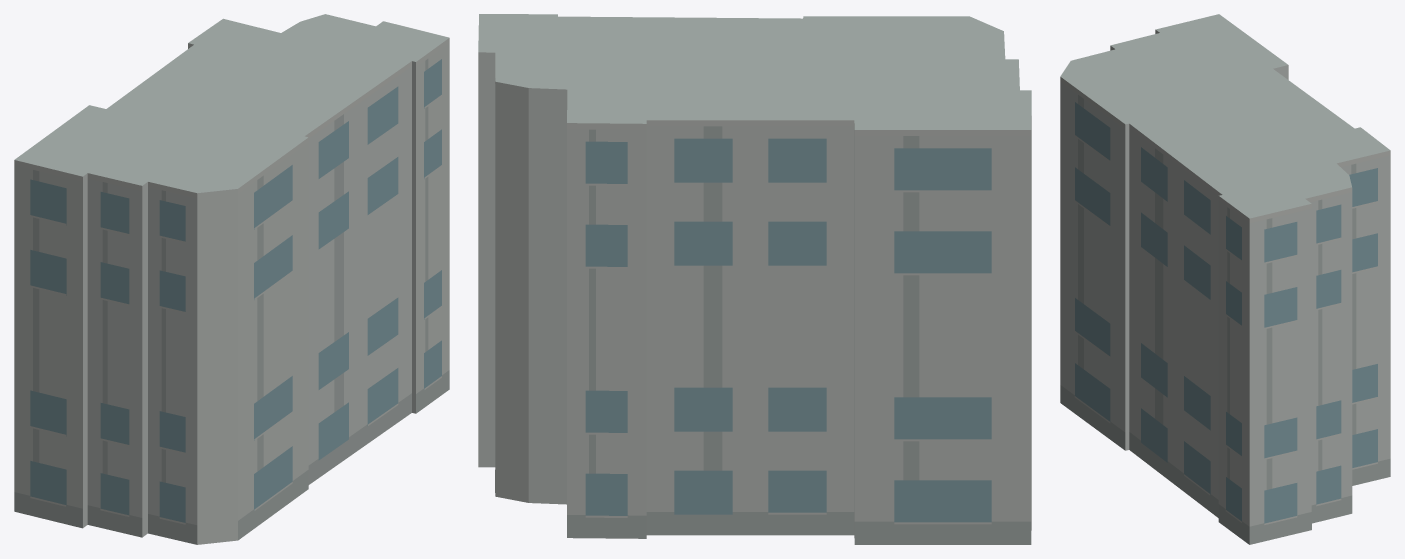
Rendered from survey-upis-33014726.glb.
3 views of the same model, side by side, from view 1: azimuth 30°, elevation 25°; view 2: azimuth 150°, elevation 25°; view 3: azimuth 270°, elevation 25° (orthographic). The views are drawn at different scales.
Parts seen in each view (by area): view 1: survey-upis-33014726.tmp; view 2: survey-upis-33014726.tmp; view 3: survey-upis-33014726.tmp.
Part boxes in pixels (<box>): survey-upis-33014726.tmp: <box>14,14,449,544</box>; survey-upis-33014726.tmp: <box>478,14,1031,544</box>; survey-upis-33014726.tmp: <box>1060,14,1390,544</box>.
Bounding box in the file's own units: 21.79 × 16.2 × 14.87.
